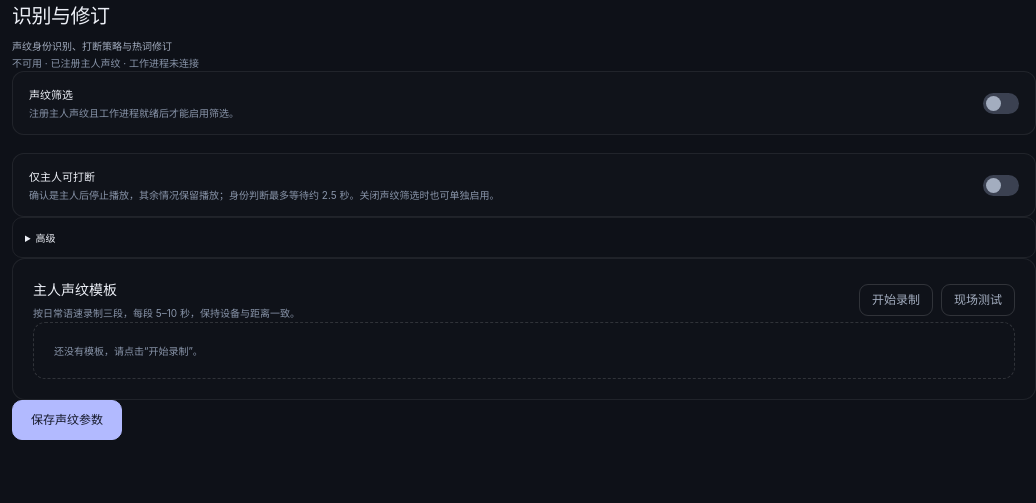
Test case: 正式界面的真实控件交互 › 主人打断开关直接保存，待机时显示已启用并保留未保存的阈值
What coordinates should you click on to do the following:
click the switch named "仅主人可打断"
I would click on:
 (62, 177)
Its box is [12, 153, 1035, 217].
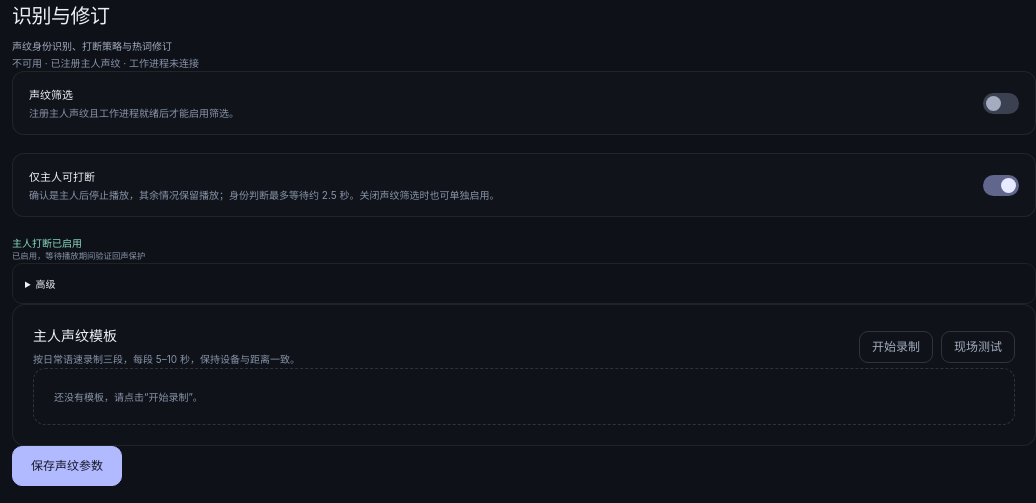
Expected: the element with class "speaker-barge-status" does not show "不可用"
Expected: the text "主人打断已启用" is shown, [12, 237, 82, 249]
